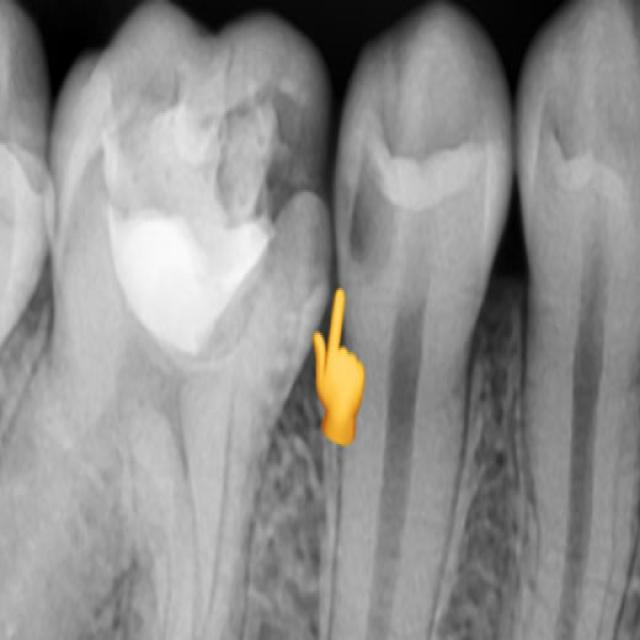Caries: (53, 15, 333, 570)
